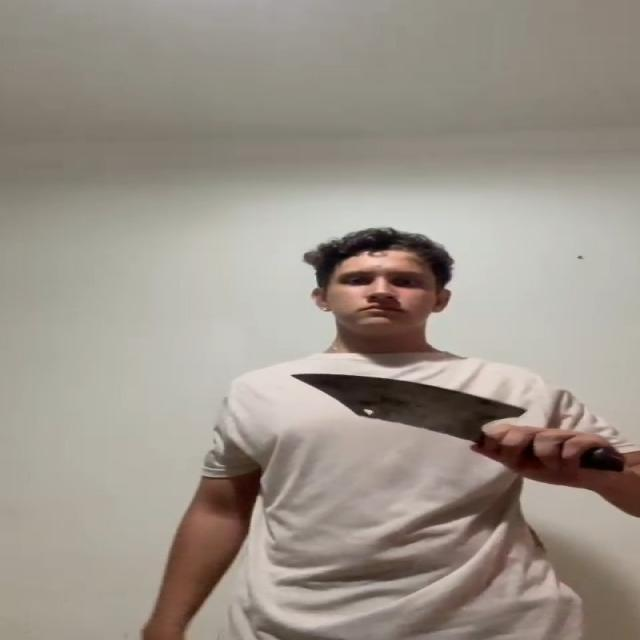knife: (286, 372, 538, 432)
